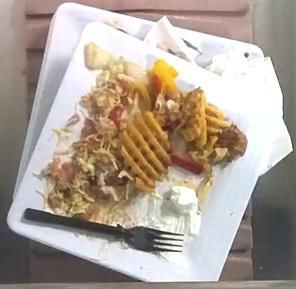fries: (14, 2, 154, 190), (110, 106, 171, 190), (177, 88, 231, 150)
taco_mix: (48, 43, 182, 215)
